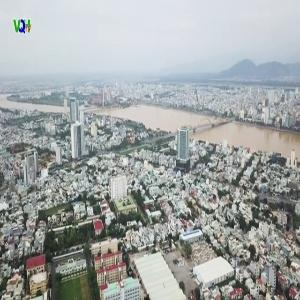drone: (221, 235, 267, 281)
